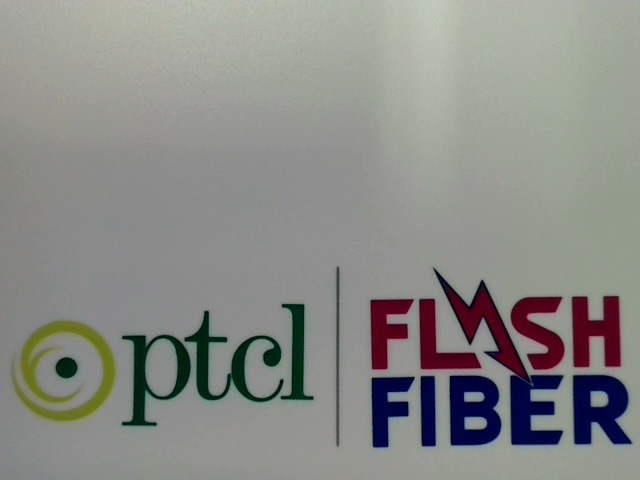BF_PTCL: (4, 297, 325, 430)
